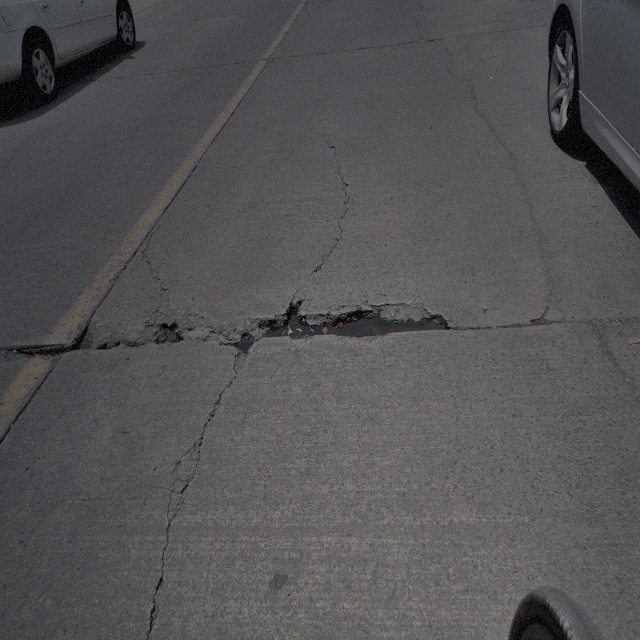pothole: (262, 296, 450, 342), (68, 322, 98, 352), (234, 326, 256, 358), (154, 322, 183, 346)
